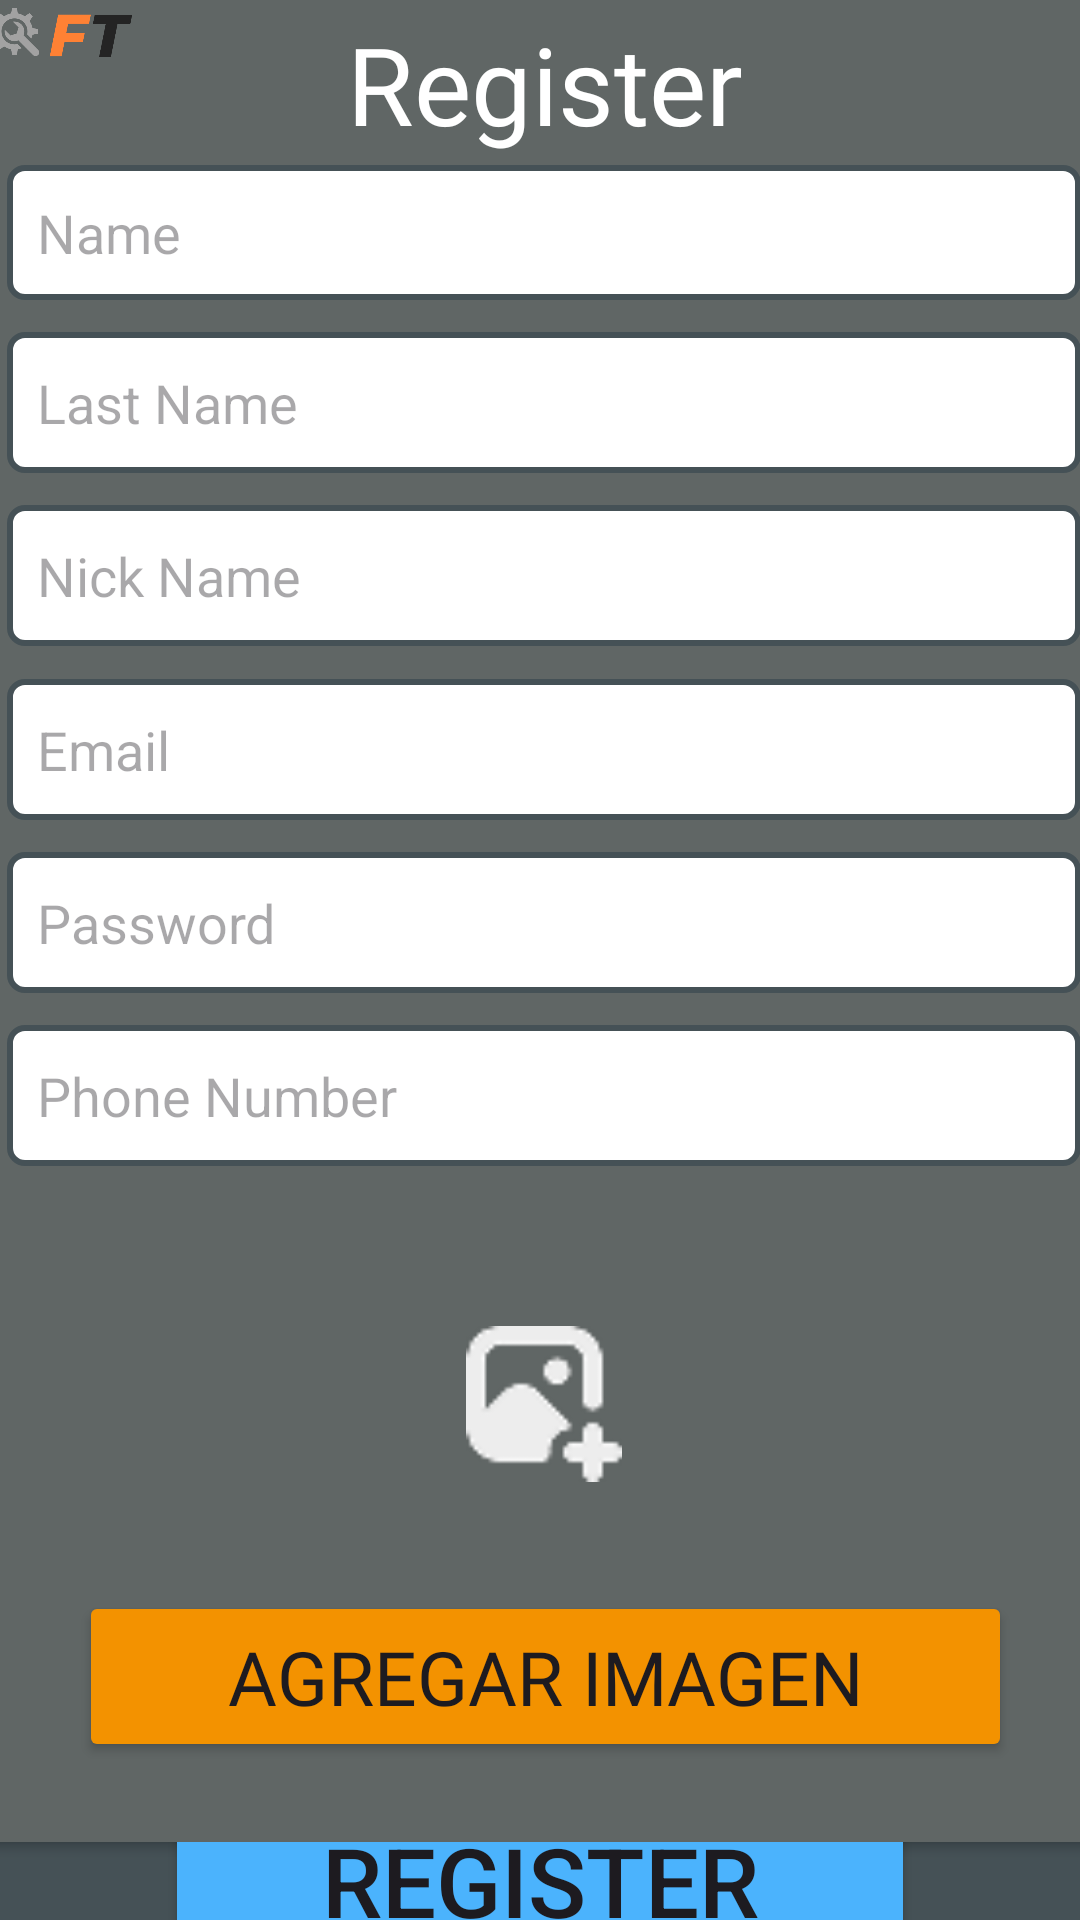

Icons on this 1080x1920 Android screen, each with its box as (x1, y1, x2, y2):
anadirimagen: (466, 1326, 622, 1482)
